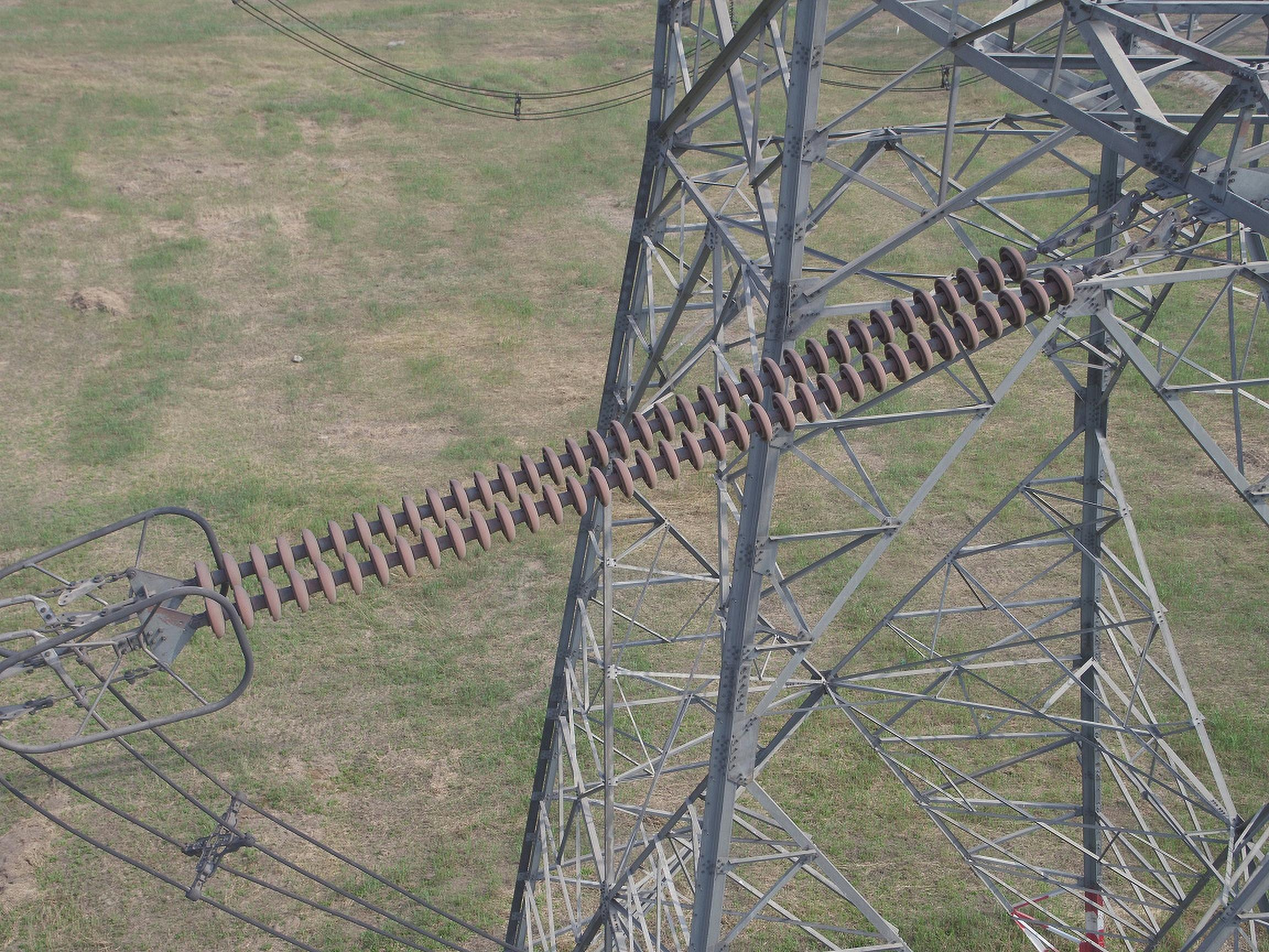insulator: (191, 240, 1080, 645)
